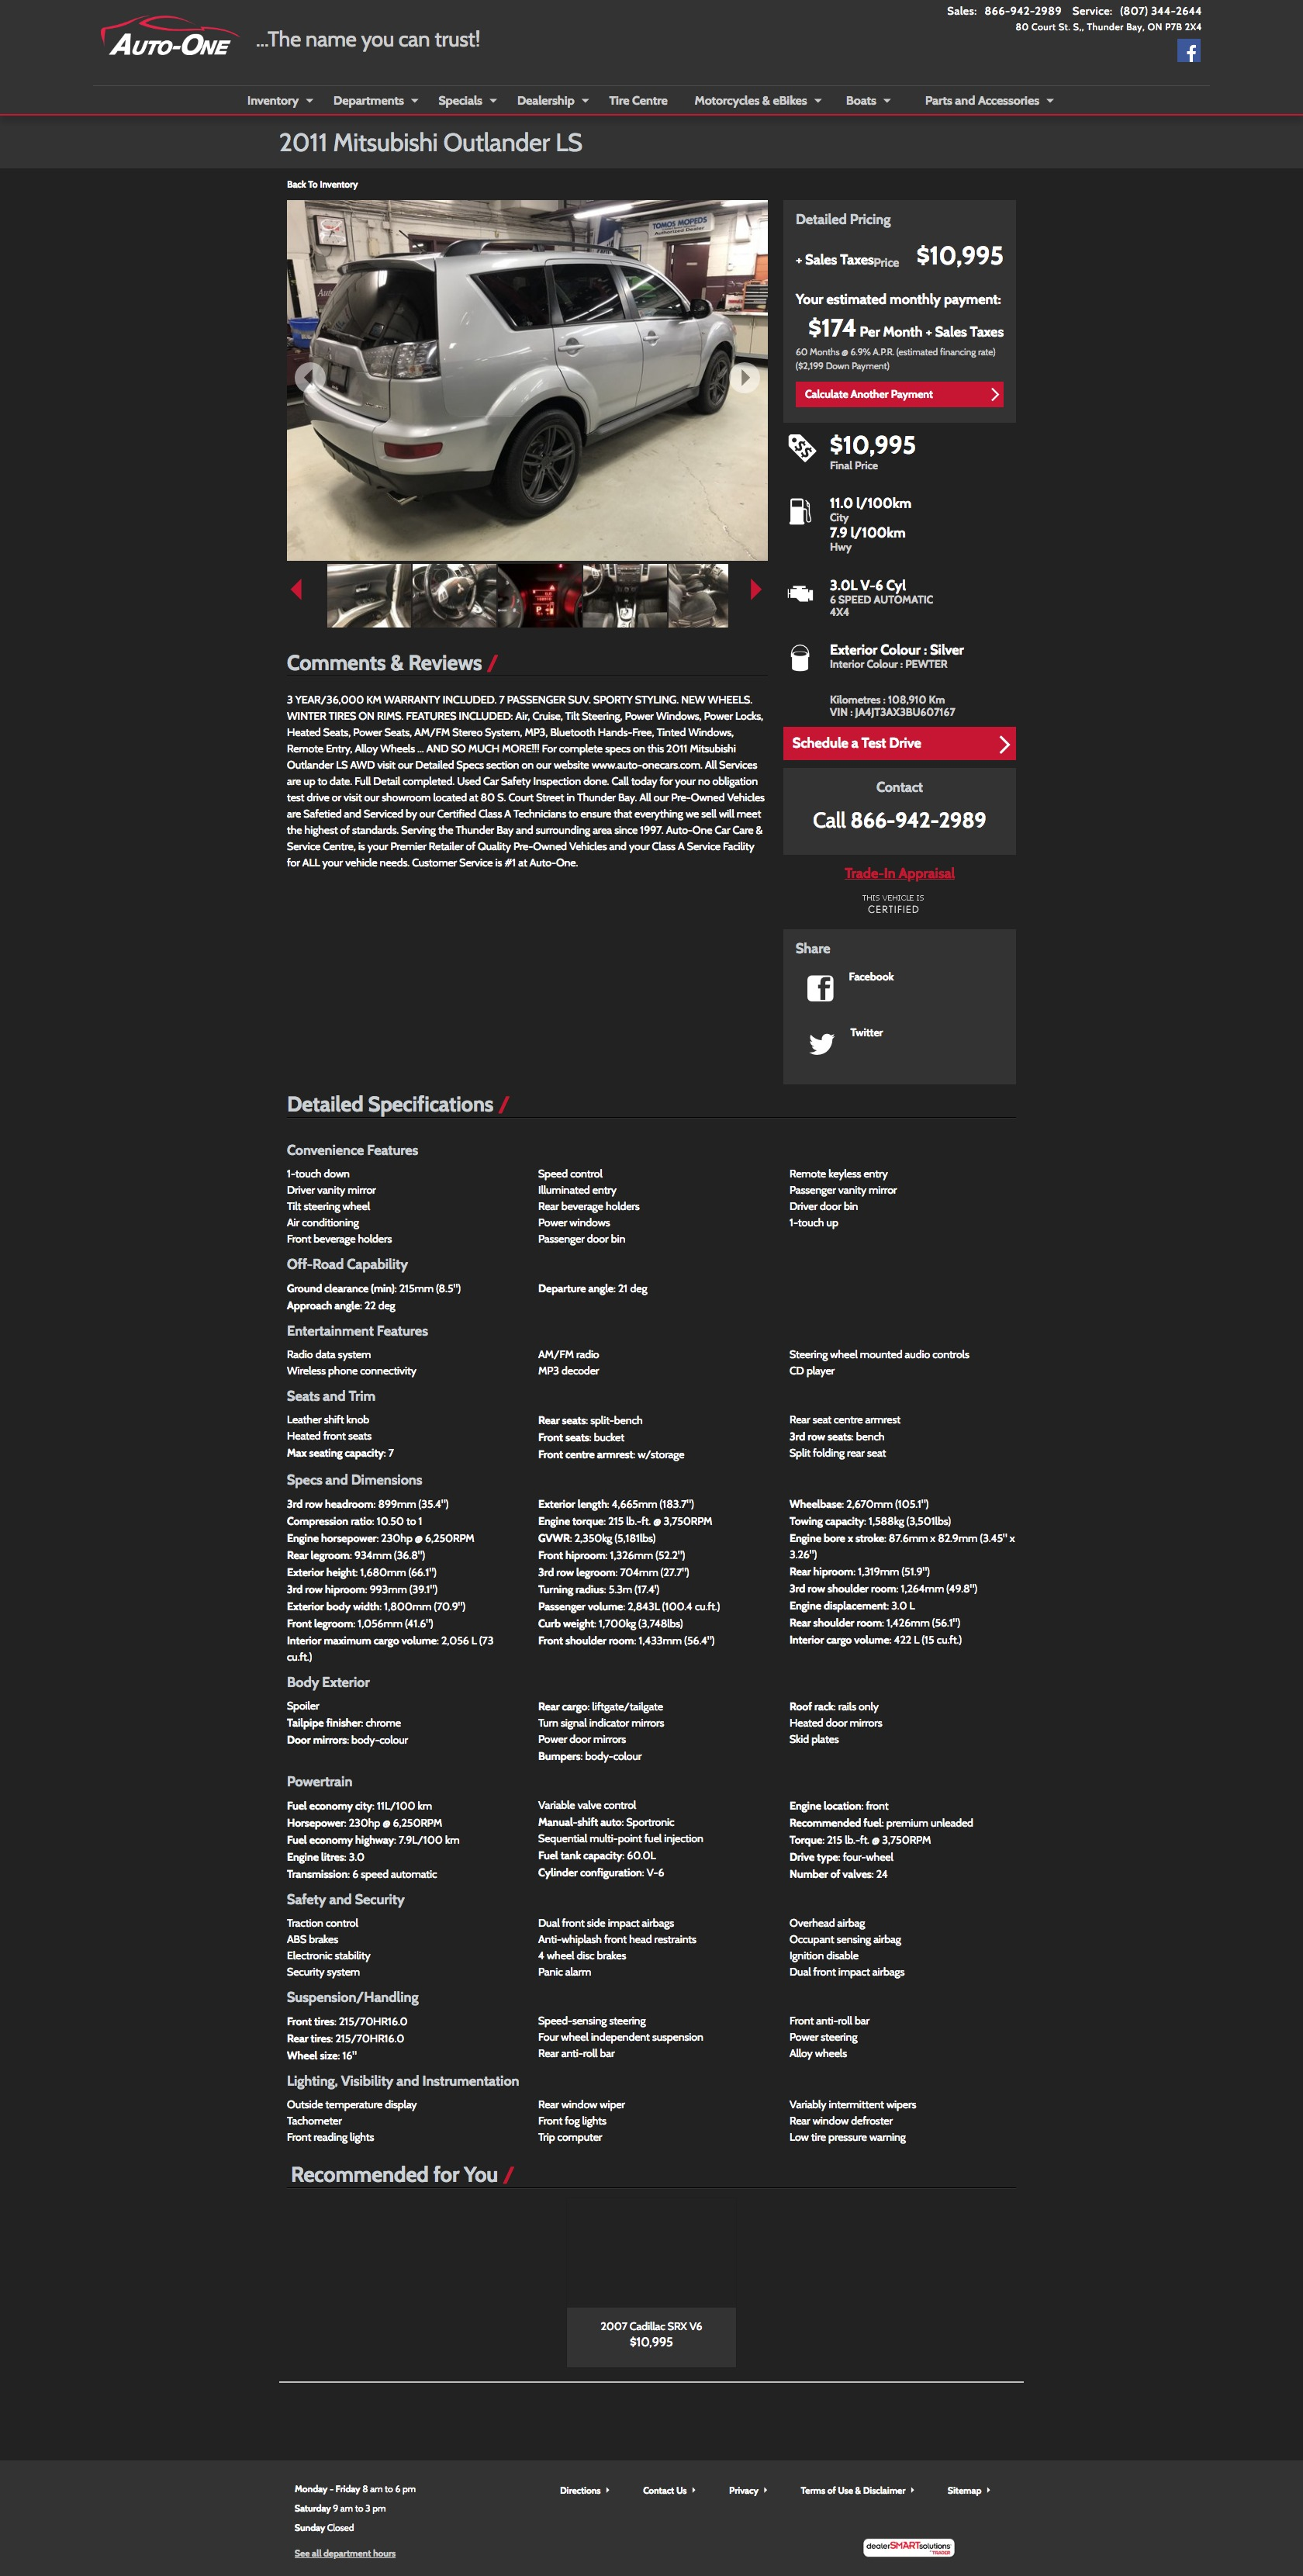car: (750, 580, 761, 602)
